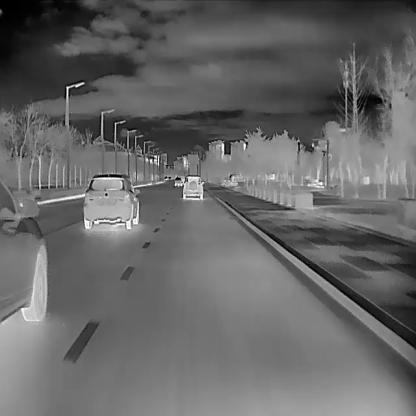car: (0, 174, 48, 327), (82, 172, 140, 229), (182, 175, 204, 200), (174, 176, 182, 186)
